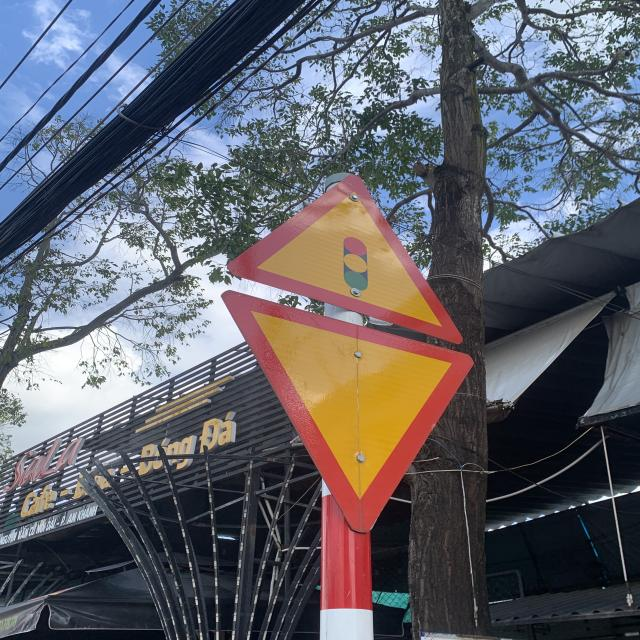Duong_Co_Go_Giam_Toc: (225, 171, 463, 343)
Gioi_Han_Toc_Do_25: (224, 290, 474, 532)
